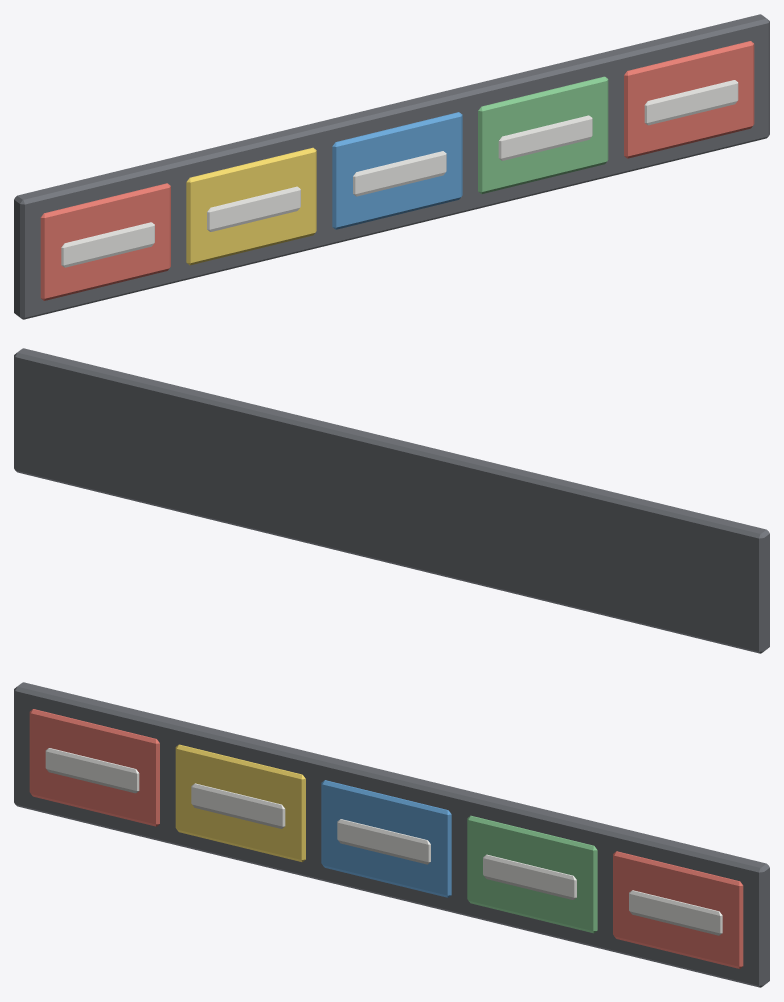
Rendered from nursery-and-primary-classroom-name-label-strip-7e2b6ee4__34997.glb.
3 views of the same model, one above another, from view 1: azimuth 30°, elevation 25°; view 2: azimuth 150°, elevation 25°; view 3: azimuth 330°, elevation 25° (orthographic).
Parts seen in each view (by area): view 1: name-label-strip; view 2: name-label-strip; view 3: name-label-strip.
Part boxes in pixels (bbox=[...]): name-label-strip: bbox=[14, 14, 769, 319]; name-label-strip: bbox=[14, 348, 769, 653]; name-label-strip: bbox=[14, 682, 769, 987].
Size of the model in its own units: 0.72 by 0.11 by 0.0225.
